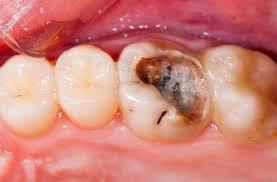Cavity: (135, 53, 205, 130)
